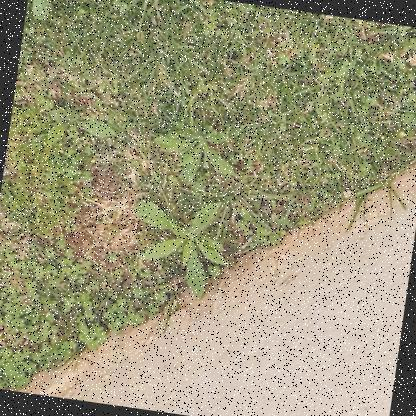Weeds: (124, 186, 237, 302), (152, 108, 241, 190), (47, 99, 116, 152), (25, 0, 112, 30)
